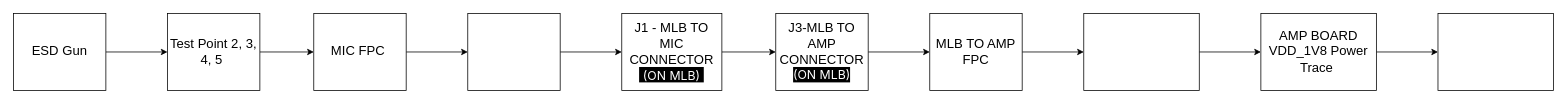
The diagram is 1567 pixels wide and 104 high, and some of its shapes have lost their labels. The centre of each missing label's shape, as x and y in pixels:
"J1- AMP TO MLB CONNECTOR (ON AMP)" belongs at pixel 1141 51.
"MIC FPC VCC_1V8 Power Trace" belongs at pixel 513 51.
"U205 IC PIN 5 (VDD_1V8)" belongs at pixel 1495 51.
